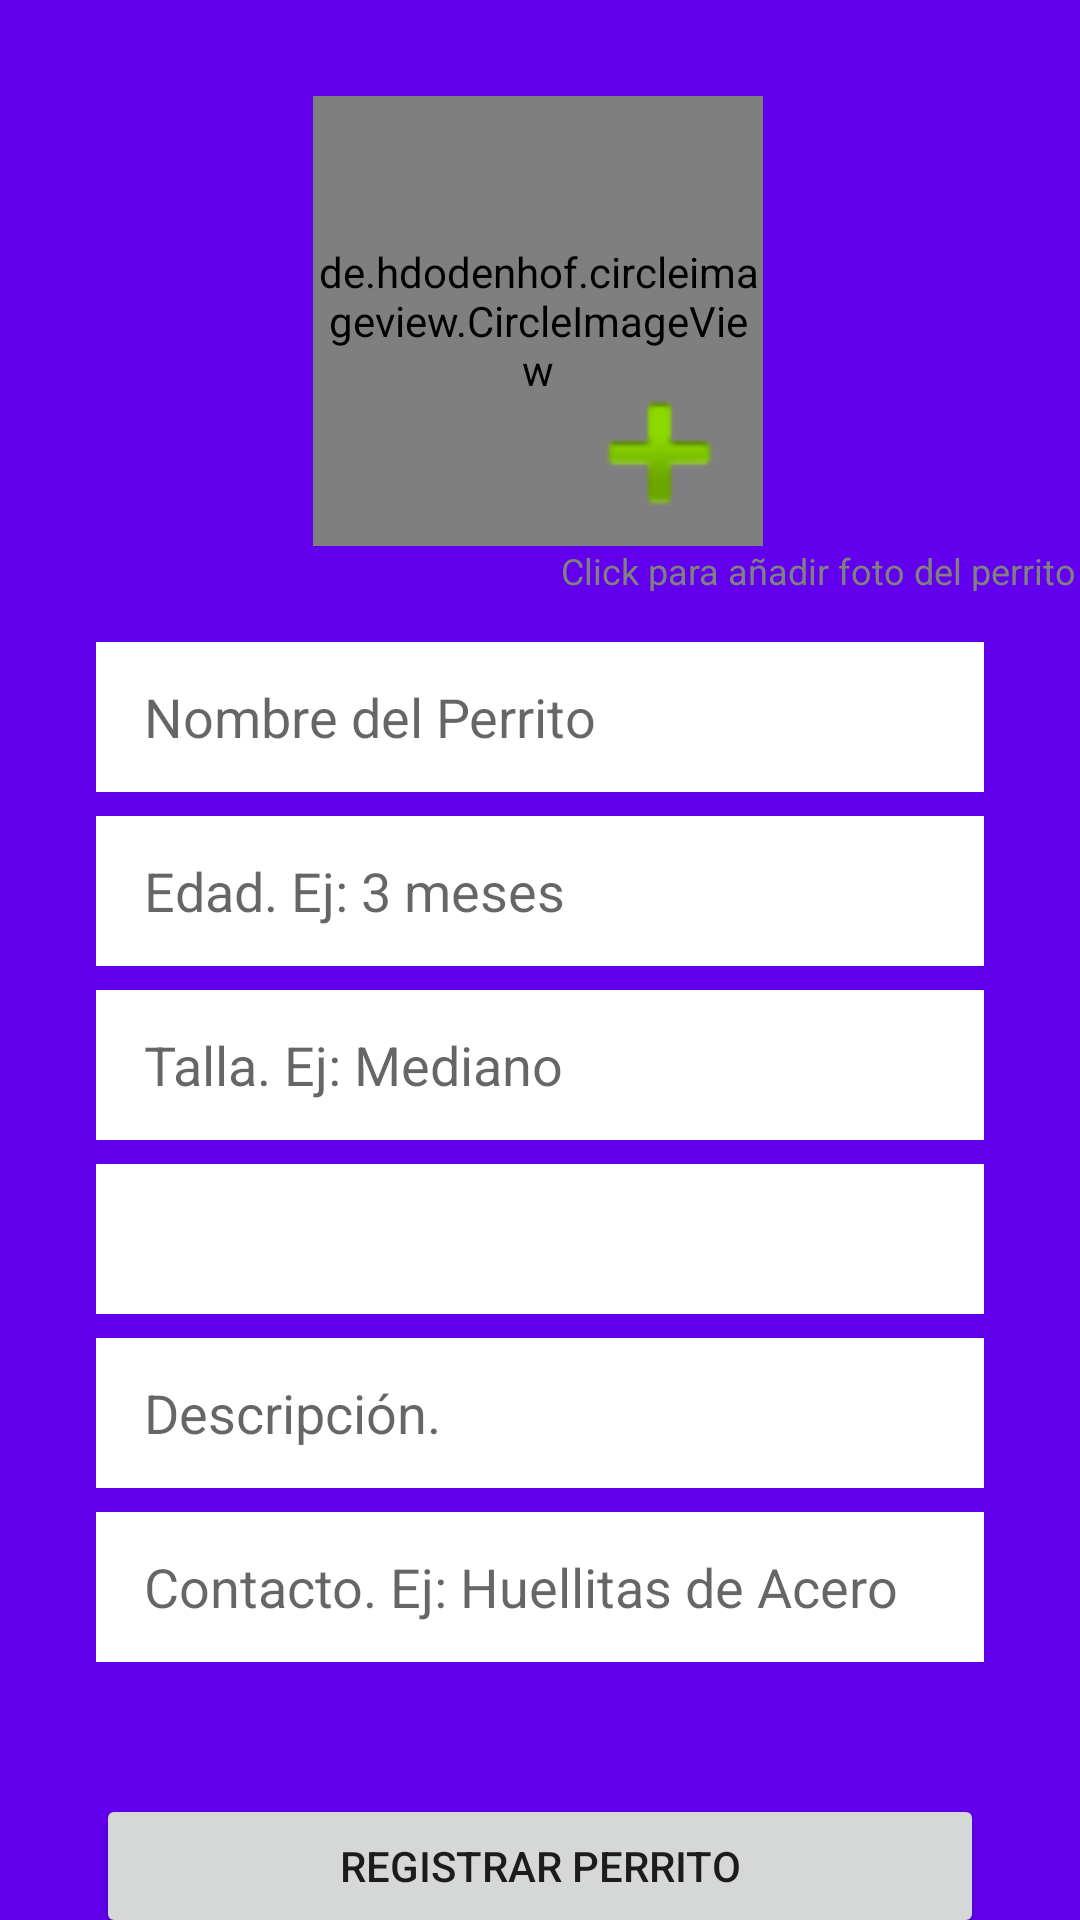

Icons on this 1080*1920 Android screen, each with the point to tap as (x=x, y=y):
add: (x=659, y=452)
